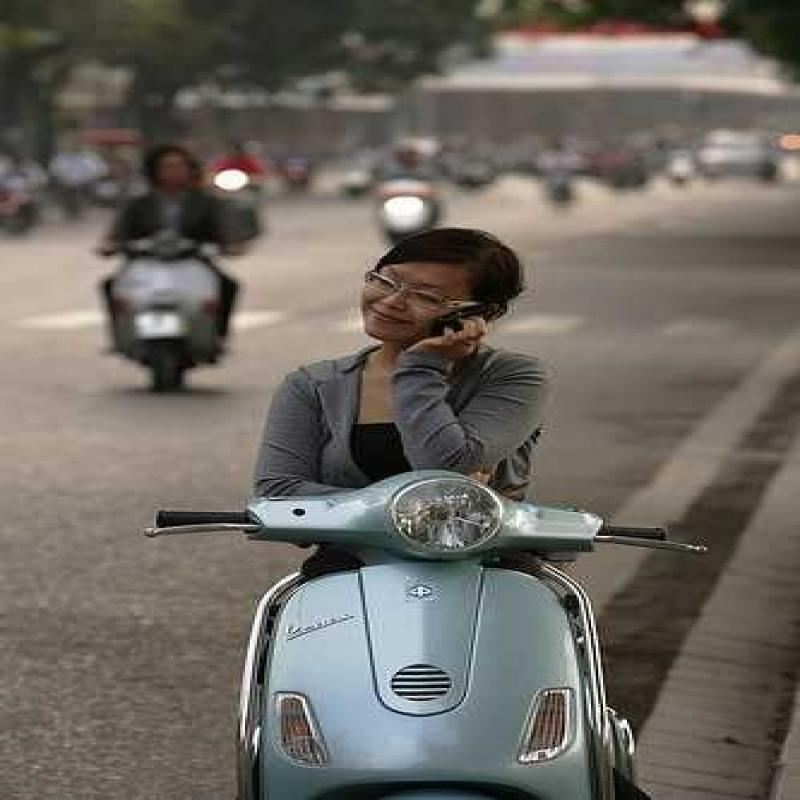bike: (175, 469, 660, 800)
